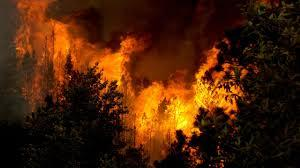fire: (100, 30, 248, 164), (10, 1, 139, 112)
